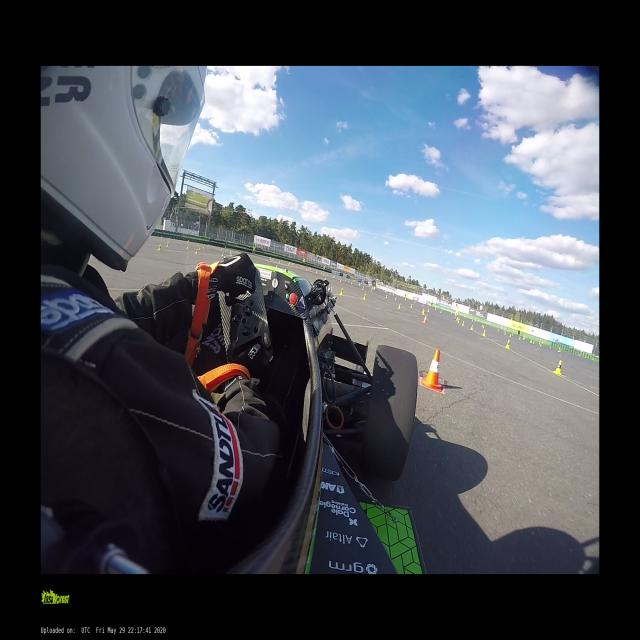orange_cone: (420, 349, 443, 392), (423, 314, 427, 324)
yellow_cone: (554, 361, 562, 375), (504, 340, 511, 349), (228, 249, 232, 258), (481, 329, 485, 336), (340, 287, 343, 296), (469, 325, 474, 330), (166, 241, 170, 247), (363, 293, 366, 300), (157, 245, 161, 250), (421, 309, 425, 314), (398, 304, 401, 310), (195, 248, 198, 254), (385, 294, 388, 299), (426, 308, 429, 312), (439, 310, 442, 314), (410, 304, 413, 308), (462, 321, 464, 326), (540, 343, 542, 348), (187, 244, 189, 249), (434, 306, 436, 310), (395, 297, 397, 301), (199, 246, 201, 250), (530, 340, 532, 342), (510, 334, 511, 337)
